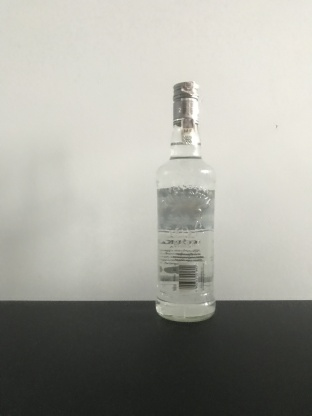nakretka: (171, 78, 200, 127)
